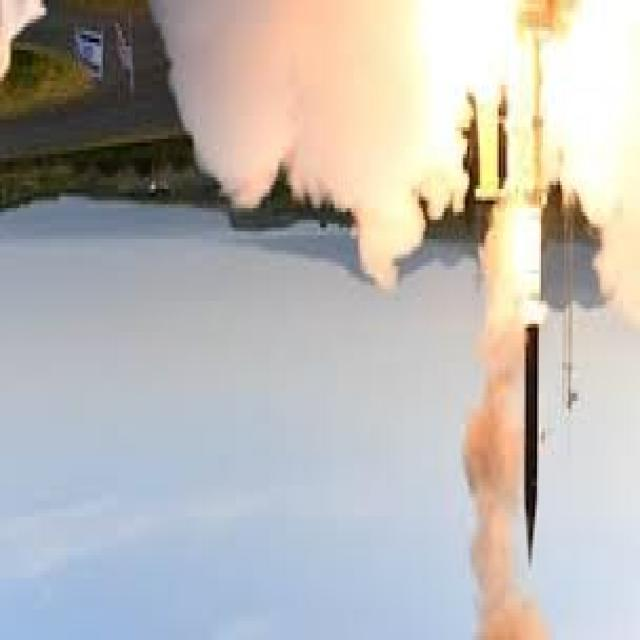missile: (519, 314, 544, 580)
